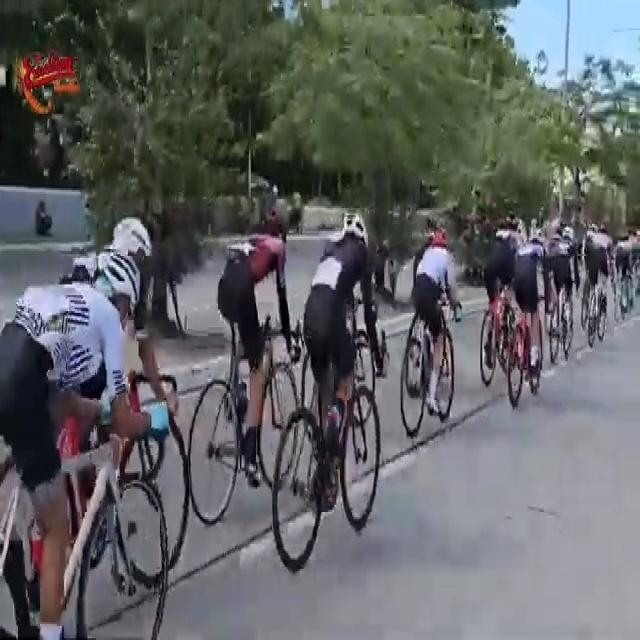bike: (0, 248, 167, 640), (47, 216, 190, 583), (268, 211, 384, 573), (189, 200, 300, 522), (398, 224, 462, 448), (506, 233, 545, 412), (479, 225, 516, 388), (549, 222, 577, 368), (588, 224, 610, 350), (582, 223, 598, 330)
